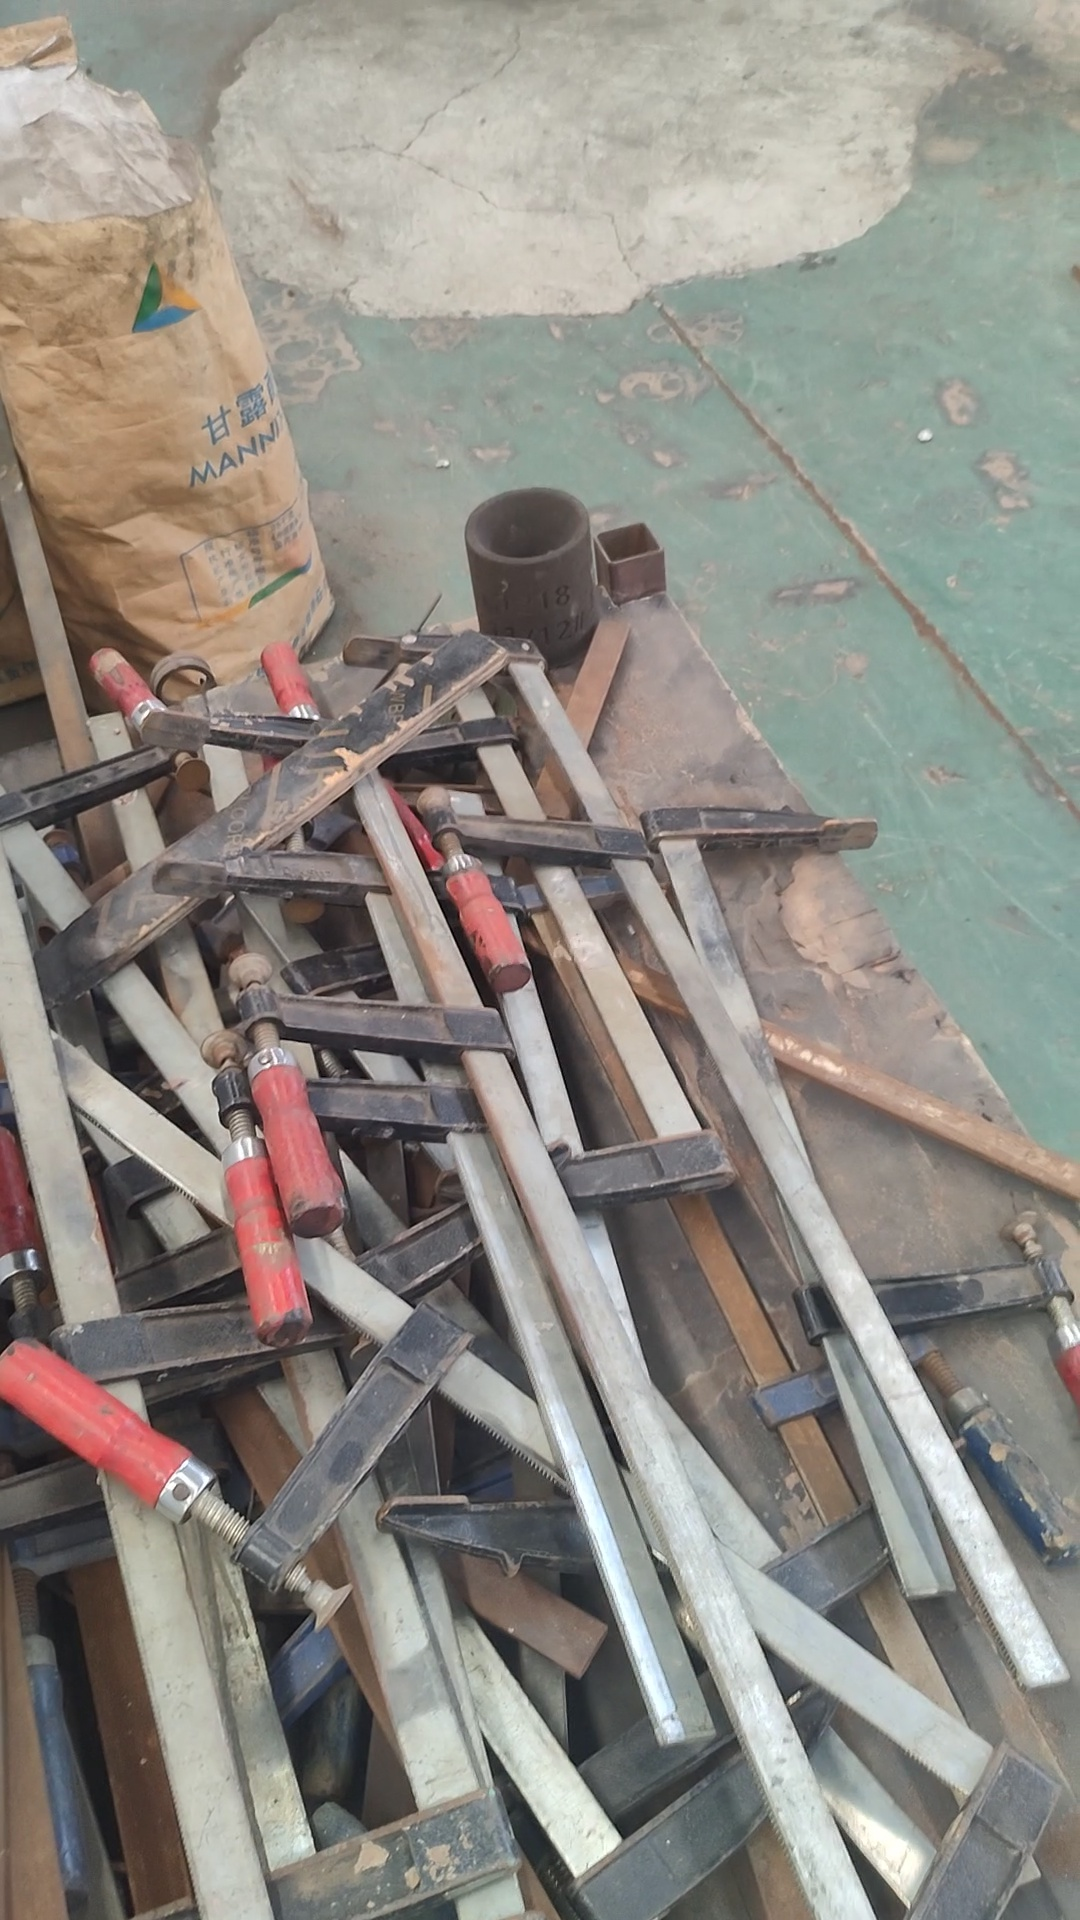pouring hole: (462, 484, 595, 568)
